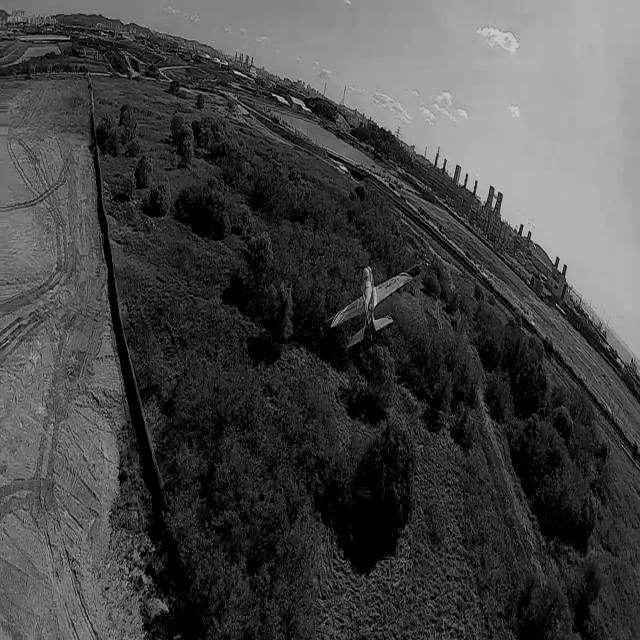iha: (346, 294, 394, 321)
